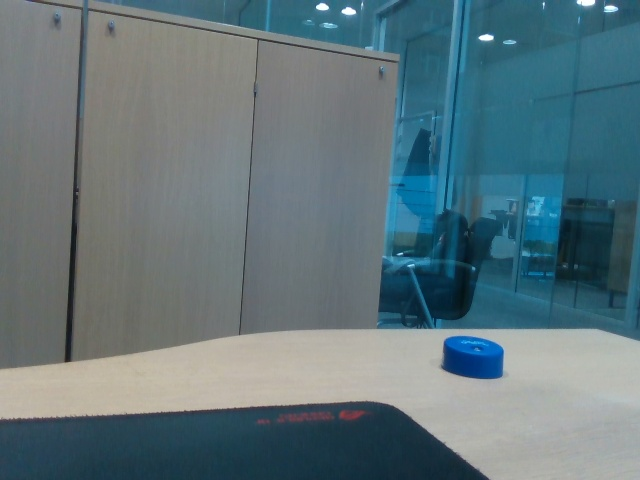alfa: (439, 332, 508, 381)
